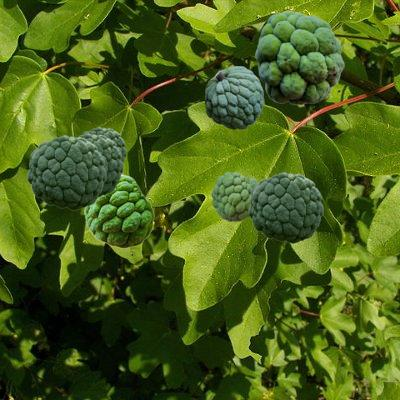atis: (255, 10, 343, 104), (27, 135, 105, 209), (248, 172, 322, 242), (84, 174, 153, 247), (205, 66, 262, 128), (78, 133, 122, 196), (211, 172, 258, 220), (82, 127, 125, 164)
